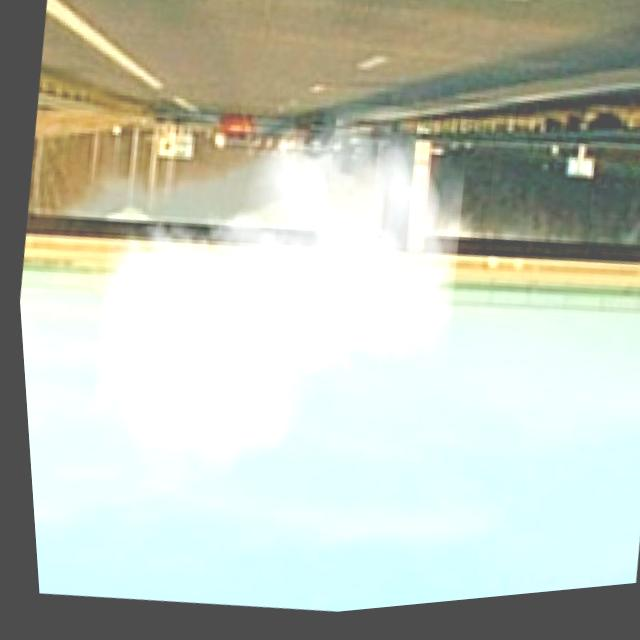Smoke: (80, 90, 467, 502)
